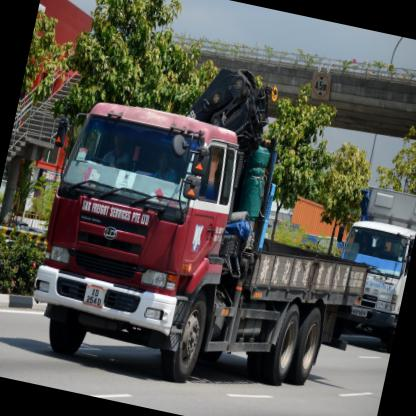truck: (21, 91, 257, 386)
